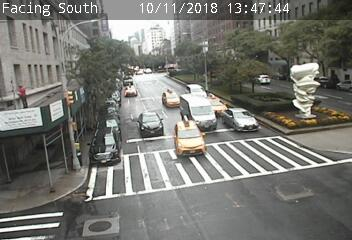car: (180, 94, 216, 131), (88, 127, 120, 165), (175, 121, 205, 157), (222, 107, 259, 132), (139, 111, 164, 136), (202, 94, 226, 116), (185, 84, 207, 100), (163, 90, 181, 108), (250, 74, 271, 85), (125, 85, 136, 96)
